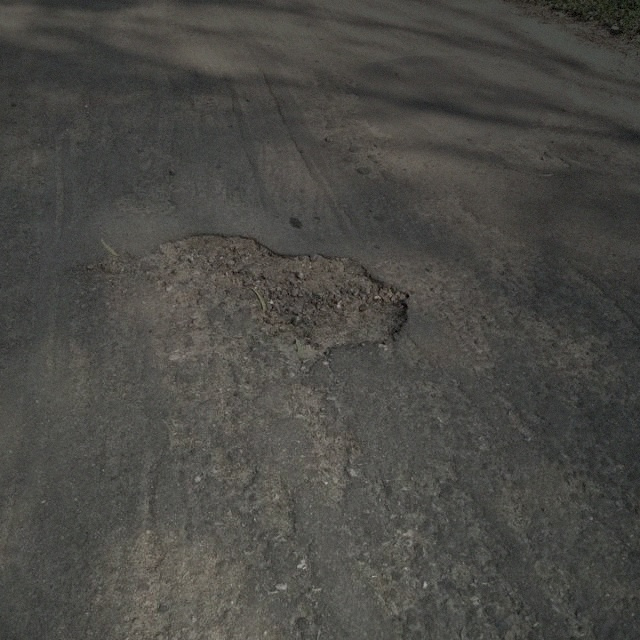pothole: (136, 229, 412, 371)
